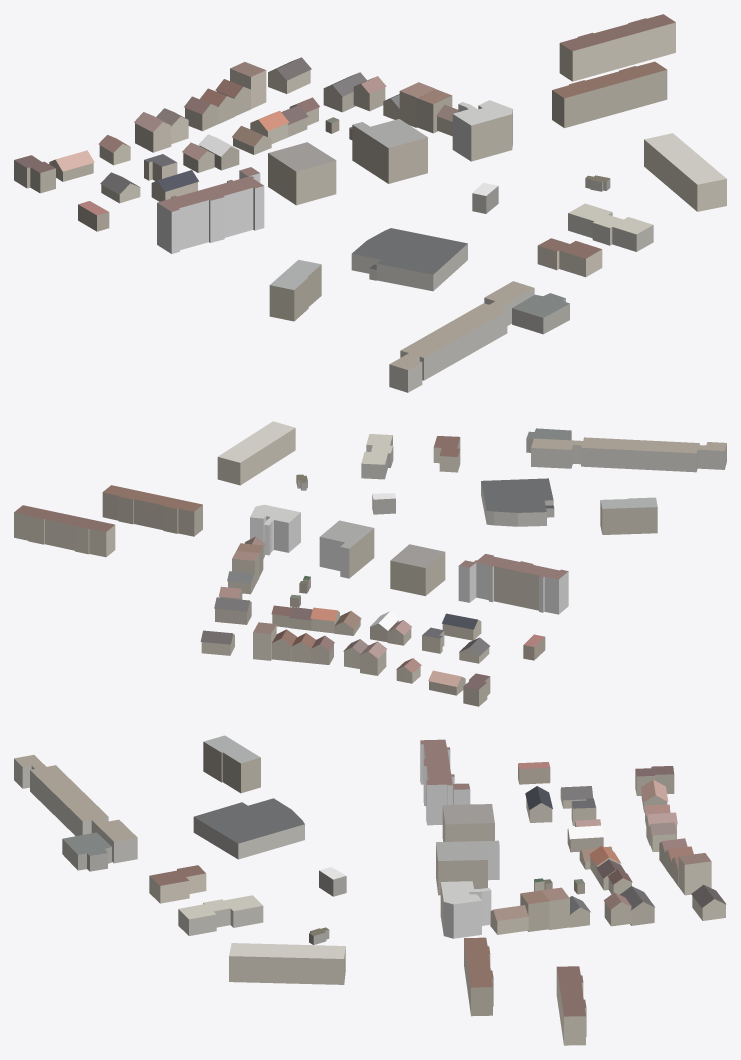
3 renders of one model, top to bottom at view 1: azimuth 30°, elevation 25°; view 2: azimuth 150°, elevation 25°; view 3: azimuth 270°, elevation 25°, orthographic. The views are drawn at different scales.
Parts seen in each view (by area): view 1: tuile; view 2: tuile; view 3: tuile.
Part boxes in pixels (box(x1,y1,x2,y2)): tuile: box(14, 14, 726, 392); tuile: box(14, 421, 726, 706); tuile: box(14, 735, 726, 1045).
Bounding box in the file's own units: 260 × 25.61 × 278.
